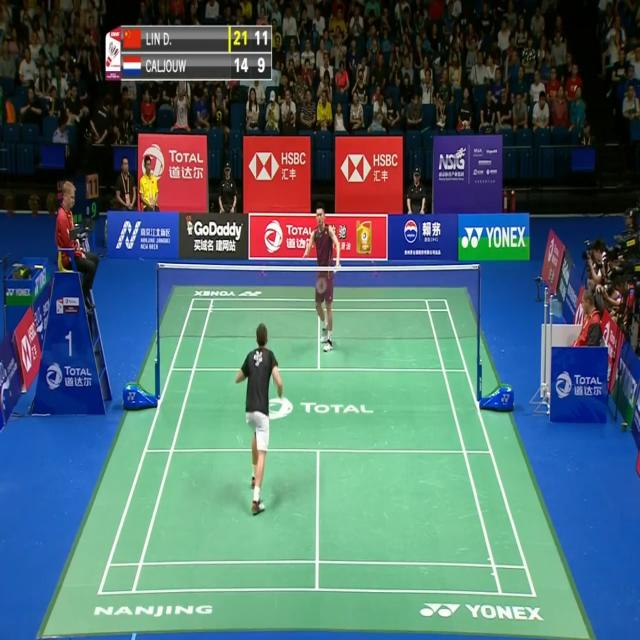Player1: (230, 321, 288, 524)
Player2: (298, 201, 344, 351)
